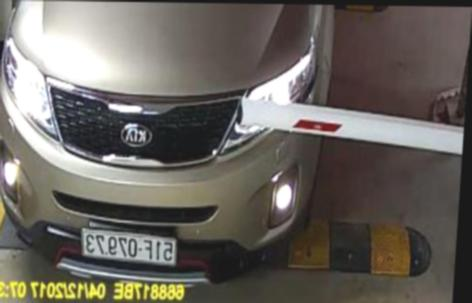License_Plate: (76, 228, 181, 270)
